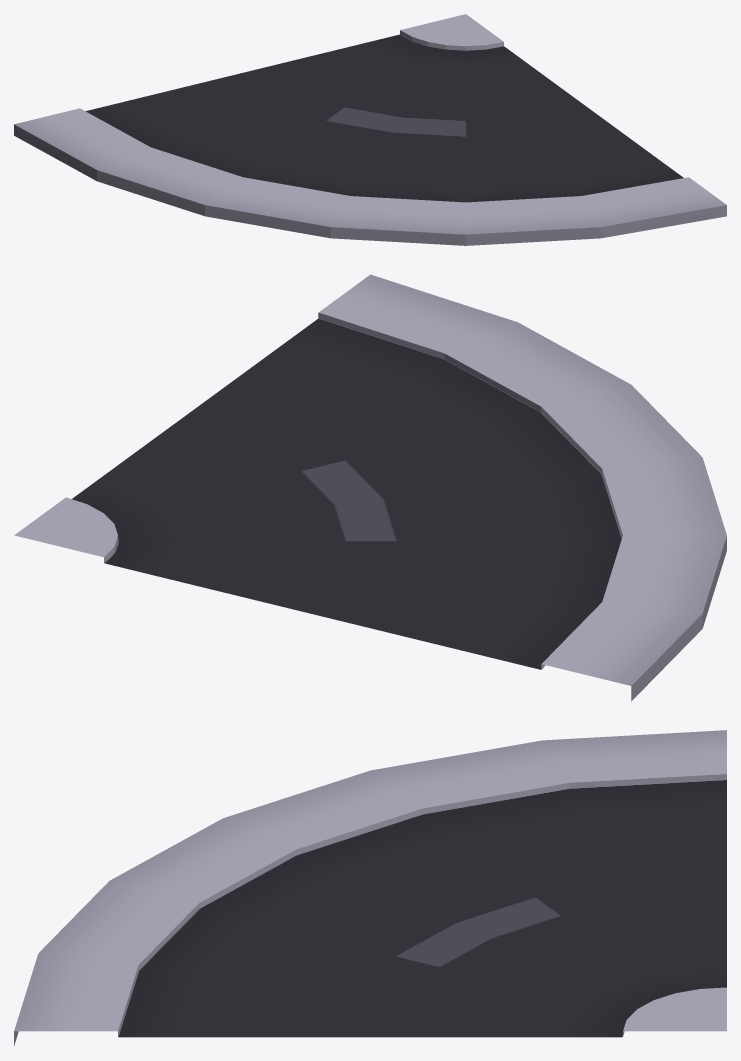
Rendered from TurningRoad.fbx.
3 renders of one model, top to bottom at view 1: azimuth 30°, elevation 25°; view 2: azimuth 150°, elevation 25°; view 3: azimuth 270°, elevation 25°, orthographic. The views are drawn at different scales.
Parts seen in each view (by area): view 1: Turning road; view 2: Turning road; view 3: Turning road.
Part boxes in pixels (left/top/right/bottom): Turning road: left=14, top=14, right=726, bottom=245; Turning road: left=14, top=274, right=726, bottom=701; Turning road: left=14, top=730, right=726, bottom=1045.
Bounding box in the file's own units: 15.68 × 0.3743 × 15.68.
